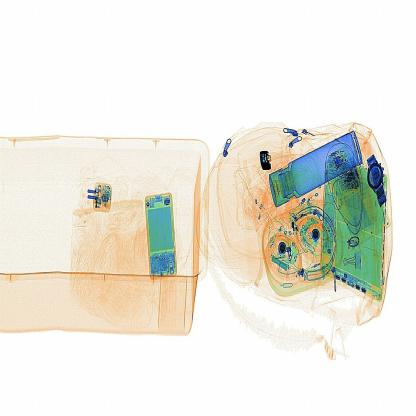wrench: (248, 144, 279, 180)
